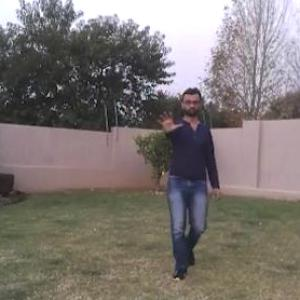follow_hand: (154, 107, 184, 136)
